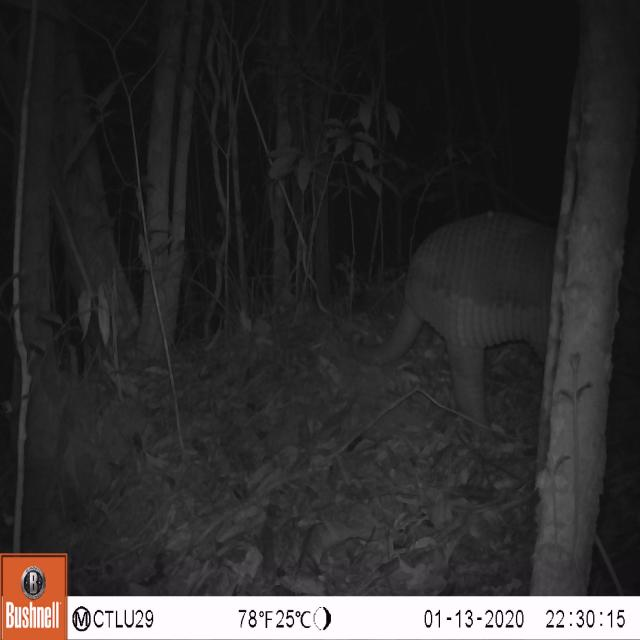Armadillo: (367, 191, 562, 442)
